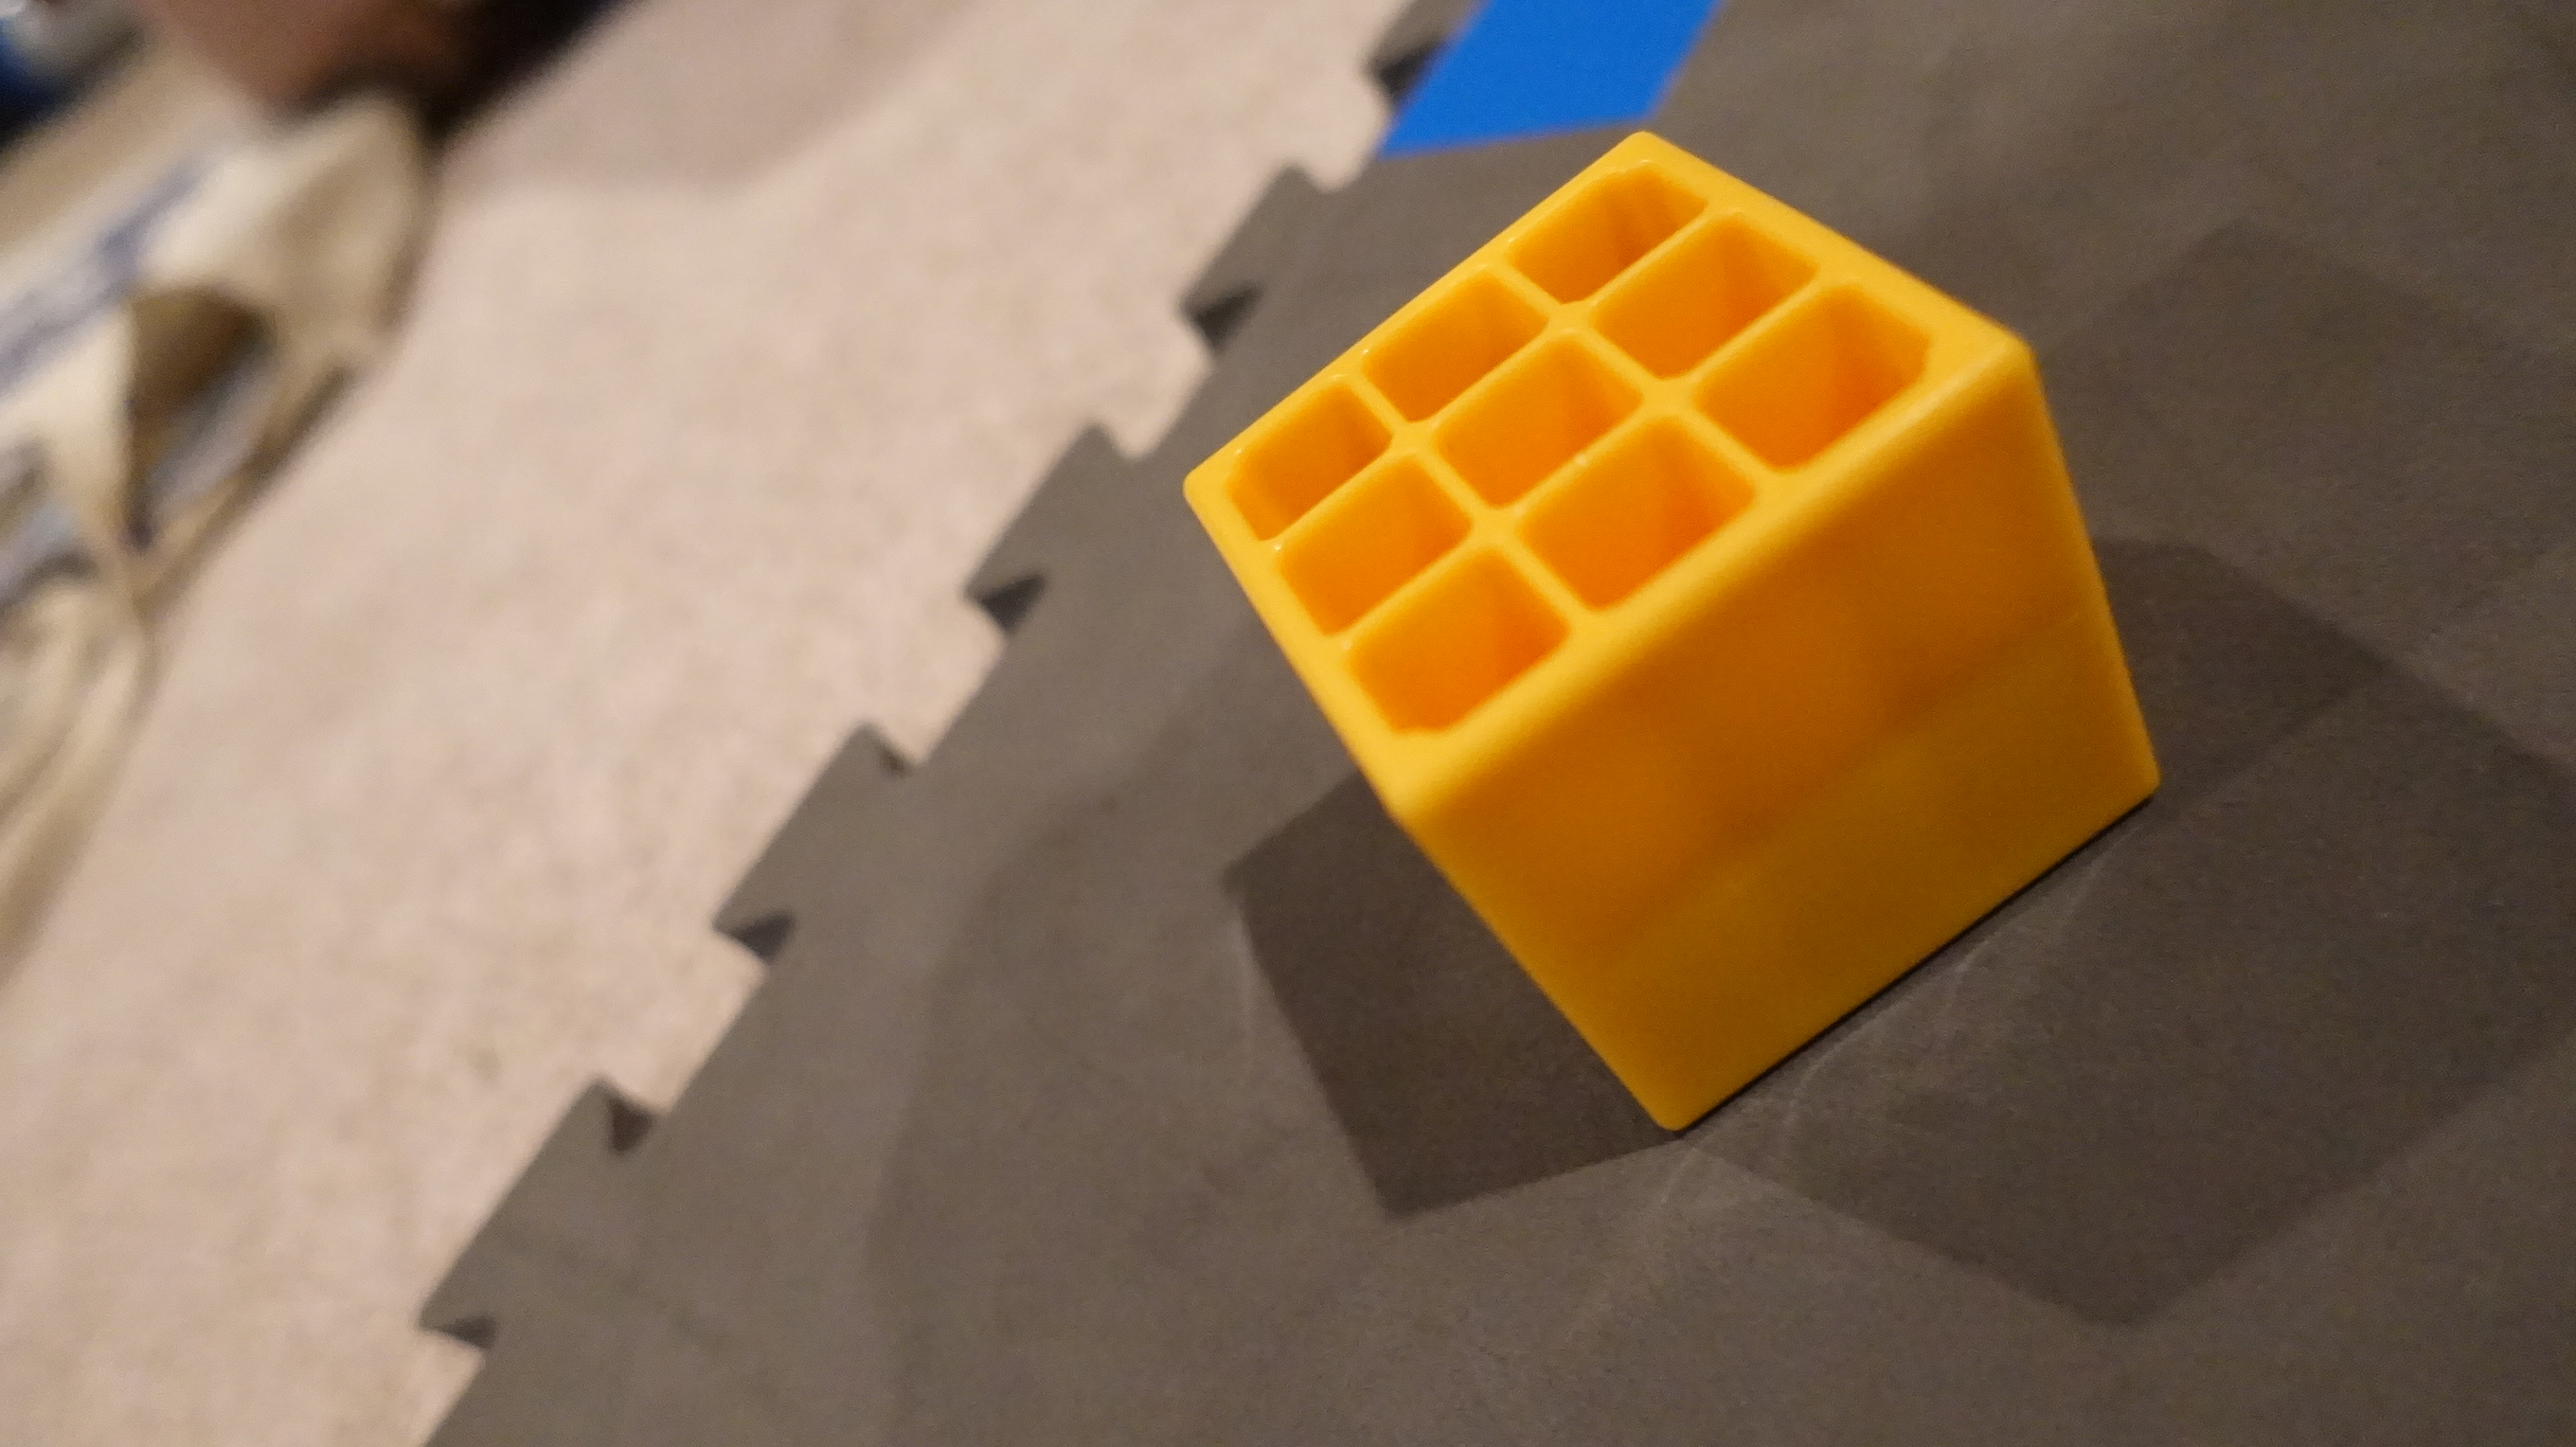gold: (1175, 117, 2176, 1139)
